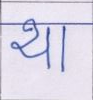aa_matra: (61, 35, 65, 69)
